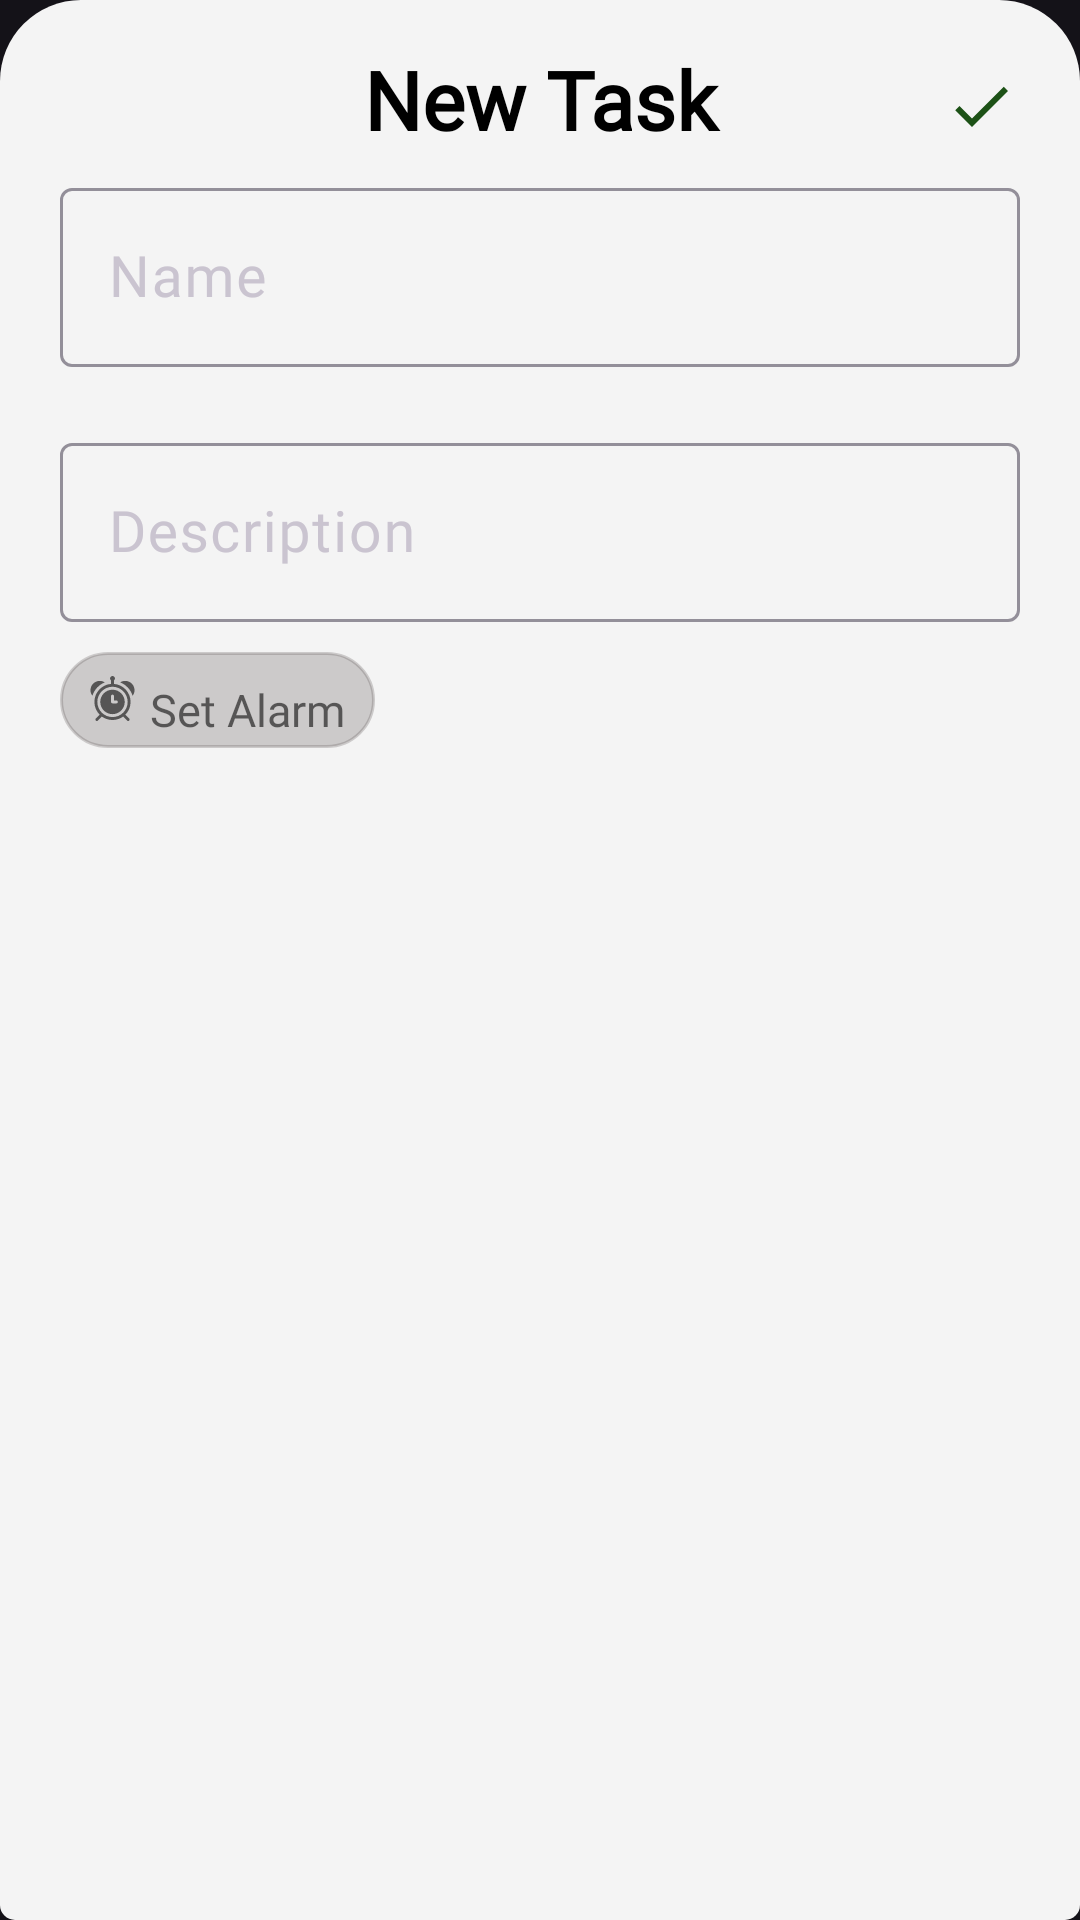

Icons on this 1080 x 1920 Android screen, each with its box as BBox(x1, y1, x2, y2):
clock: BBox(90, 676, 135, 721)
done: BBox(955, 87, 1008, 127)
